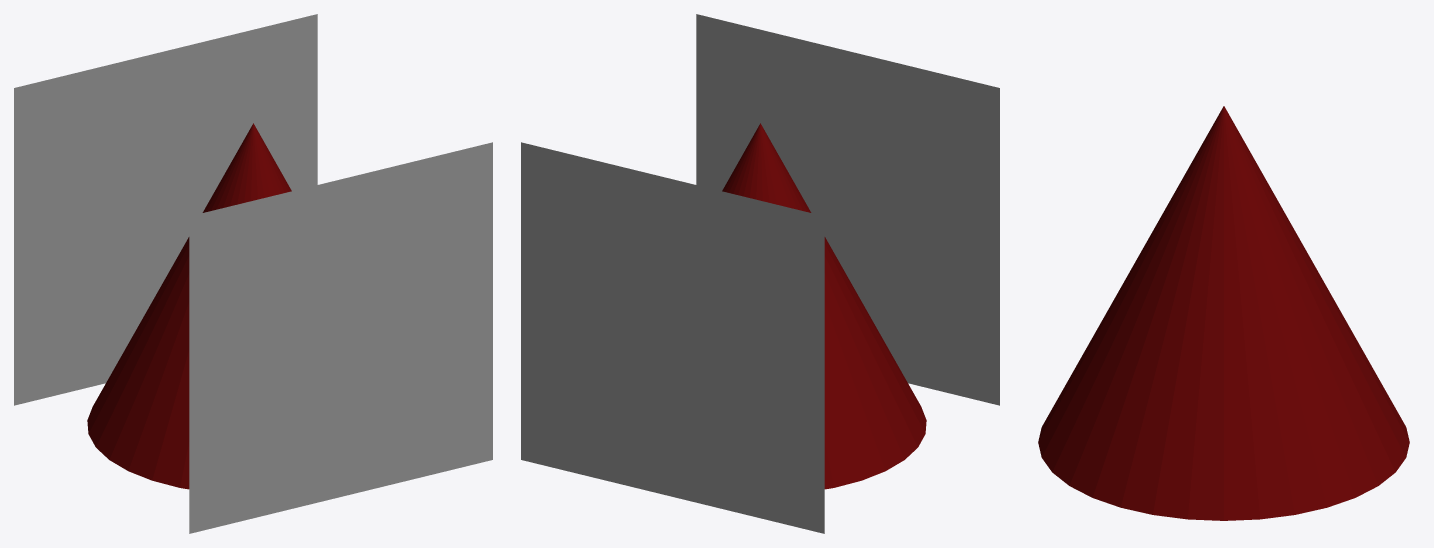
The model's file is miror.obj.
3 views of the same model, side by side, from view 1: azimuth 30°, elevation 25°; view 2: azimuth 150°, elevation 25°; view 3: azimuth 270°, elevation 25° (orthographic). The views are drawn at different scales.
Visible parts, largest first — view 1: Plane.001, Plane, Cone; view 2: Plane, Plane.001, Cone; view 3: Cone.
Part boxes in pixels (x1,y1,x2,y2): Plane.001: (189,142,492,533); Plane: (14,14,317,405); Cone: (87,123,291,489); Plane: (521,142,824,533); Plane.001: (696,14,999,405); Cone: (722,123,926,489); Cone: (1038,106,1409,520).
Size of what is drawn, in the model's own units: 2 by 2 by 2.
